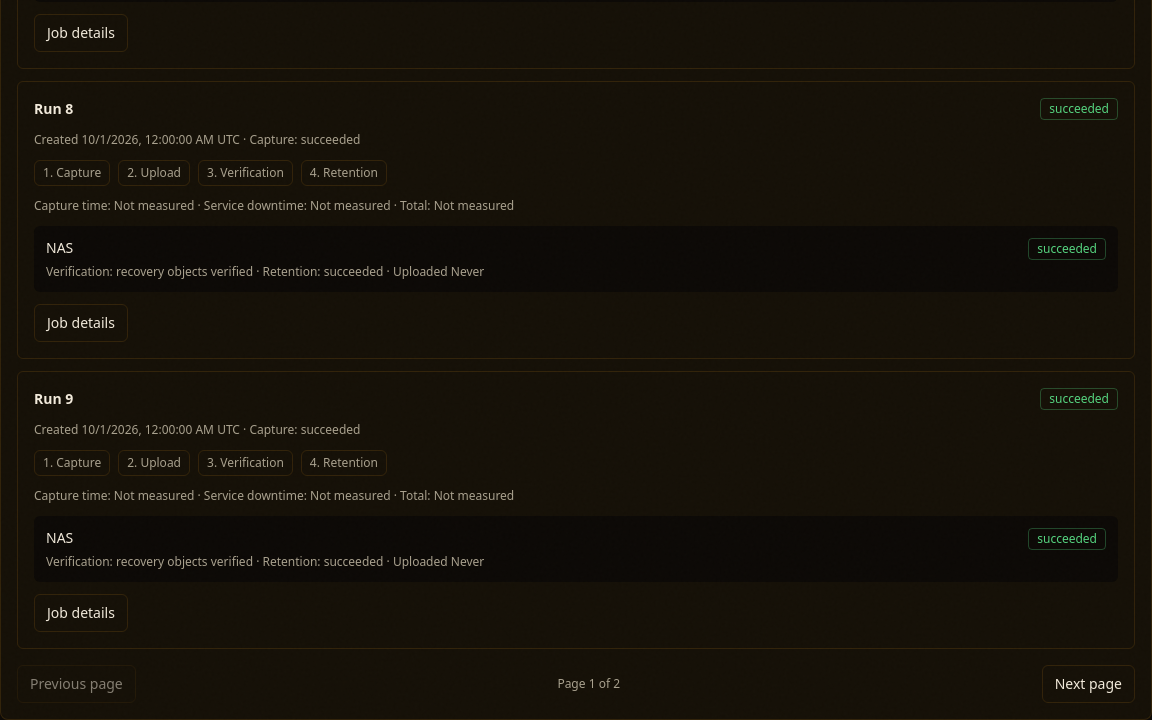
Protection and operations › filters retained history and paginates without mixing result states
(page scrolled)
Expected: the text "Run 11" is not shown
Click the button "Next page" at x=1088, y=684, box [1042, 665, 1135, 703]
(page scrolled)
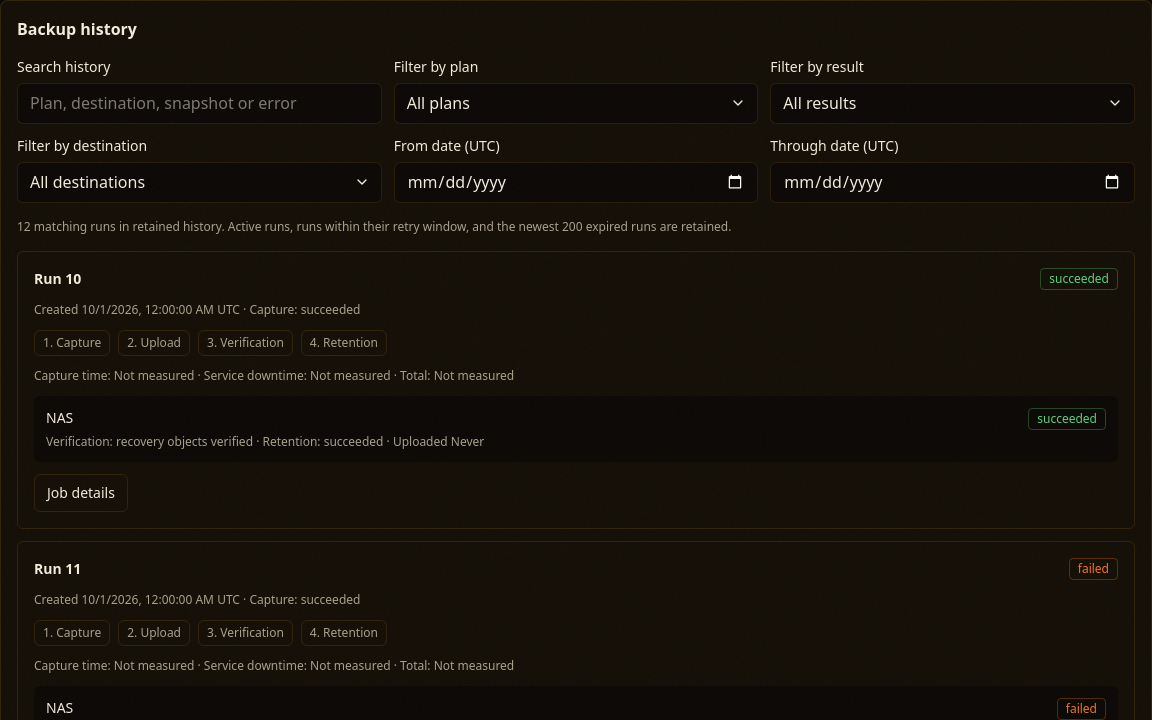
Expected: the heading "Run 11" is shown, [34, 559, 81, 579]
Select "failed" in the dropdown labelled "Filter by result" at x=953, y=103, box [770, 83, 1135, 124]
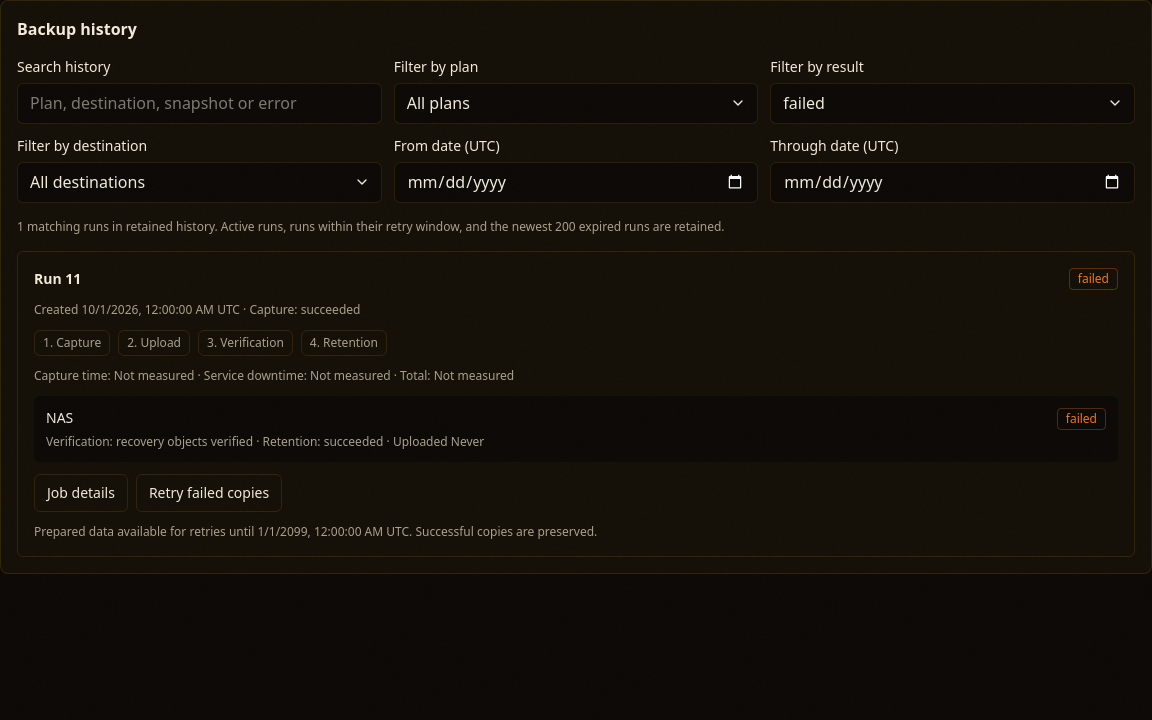
Expected: the heading "Run 11" is shown, [34, 269, 81, 289]
Expected: the heading "Run 10" is gone
Expected: the text "1 matching runs" is shown, [17, 218, 725, 235]
